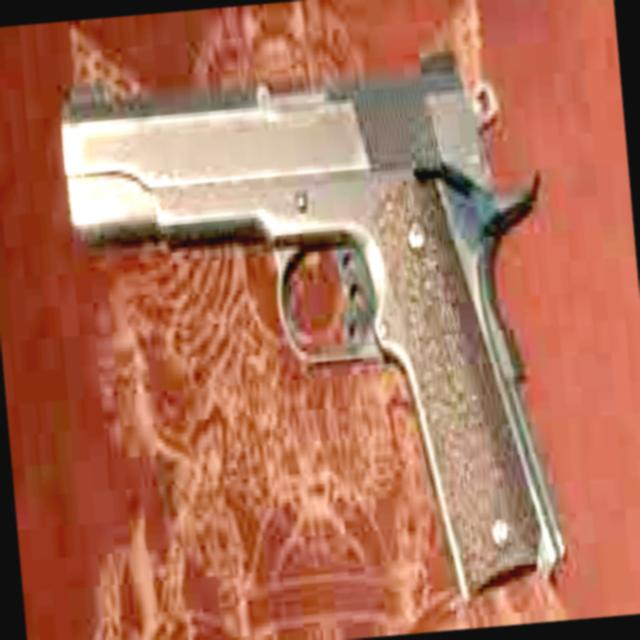semi automatic: (47, 16, 589, 640)
